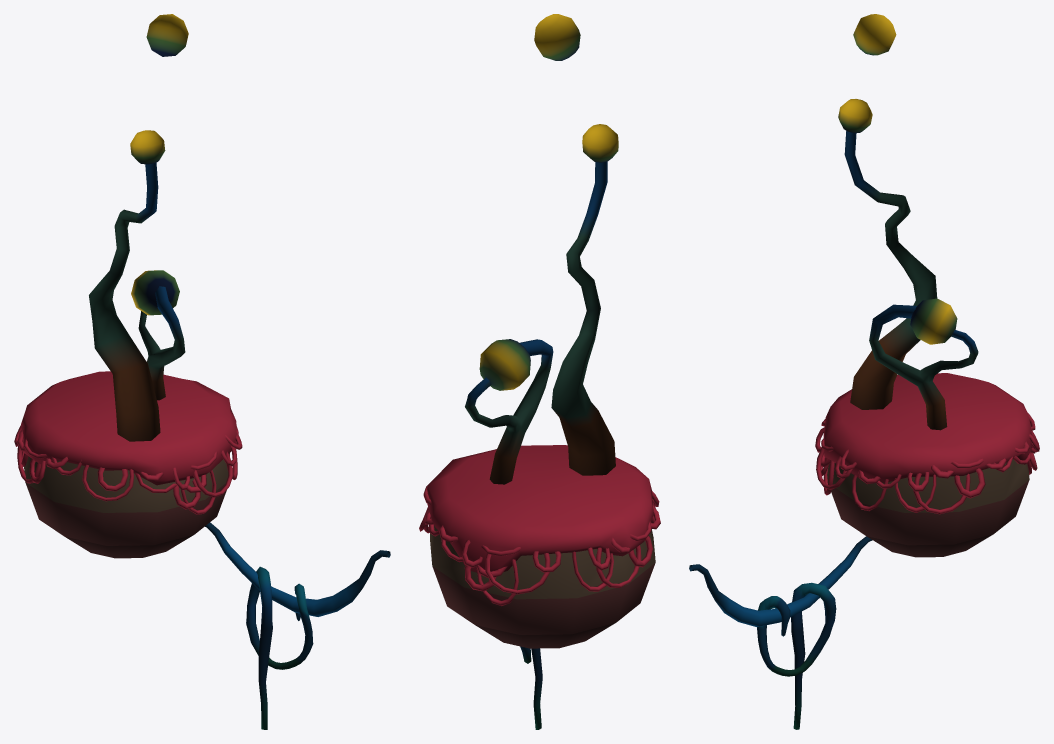
The model's file is Alien_Island14.fbx.
3 renders of one model, left to right at view 1: azimuth 30°, elevation 25°; view 2: azimuth 150°, elevation 25°; view 3: azimuth 270°, elevation 25°, orthographic. The views are drawn at different scales.
Visible parts, largest first — view 1: Alien_Island14; view 2: Alien_Island14; view 3: Alien_Island14.
Boxes of the visible parts, left/top/right/bottom form: Alien_Island14: left=14, top=14, right=390, bottom=729; Alien_Island14: left=419, top=14, right=660, bottom=729; Alien_Island14: left=689, top=14, right=1039, bottom=729.
Bounding box in the file's own units: 7841 × 21809 × 10109.
